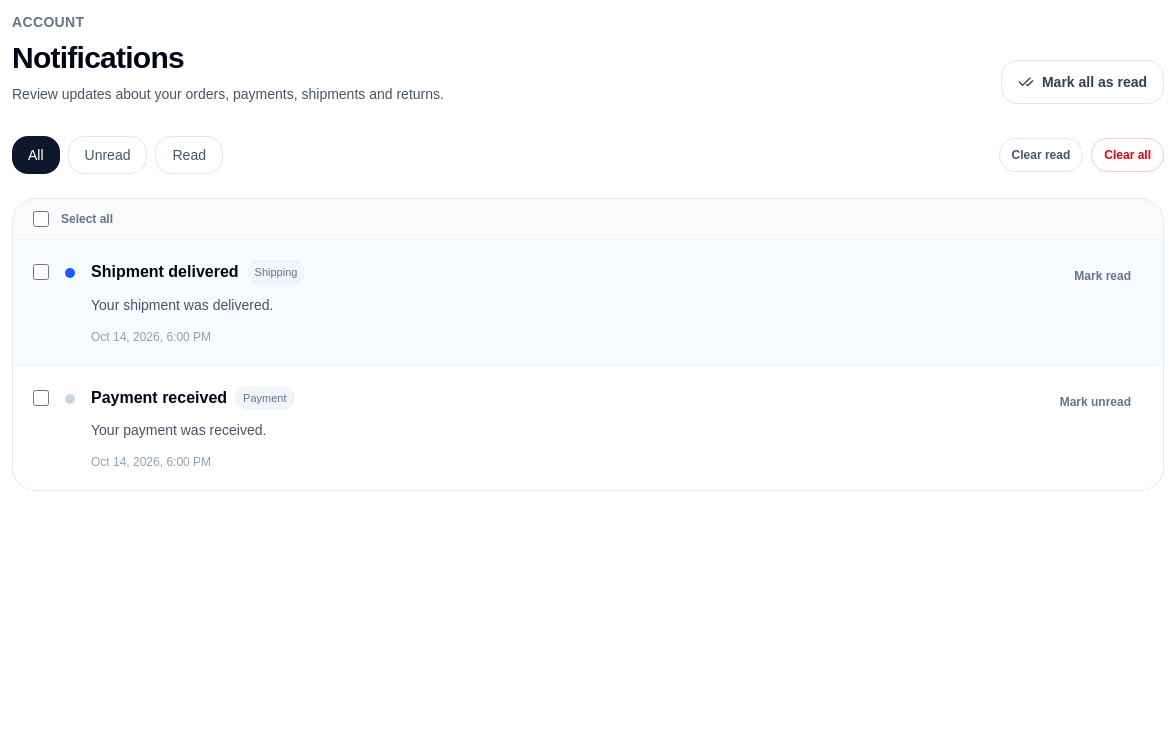
NotificationCenter › marks all notifications as read
Expected: the heading "Shipment delivered" is shown, [91,260,239,284]
Click the button "Mark all as read": (1082, 82) [1001,60,1164,104]
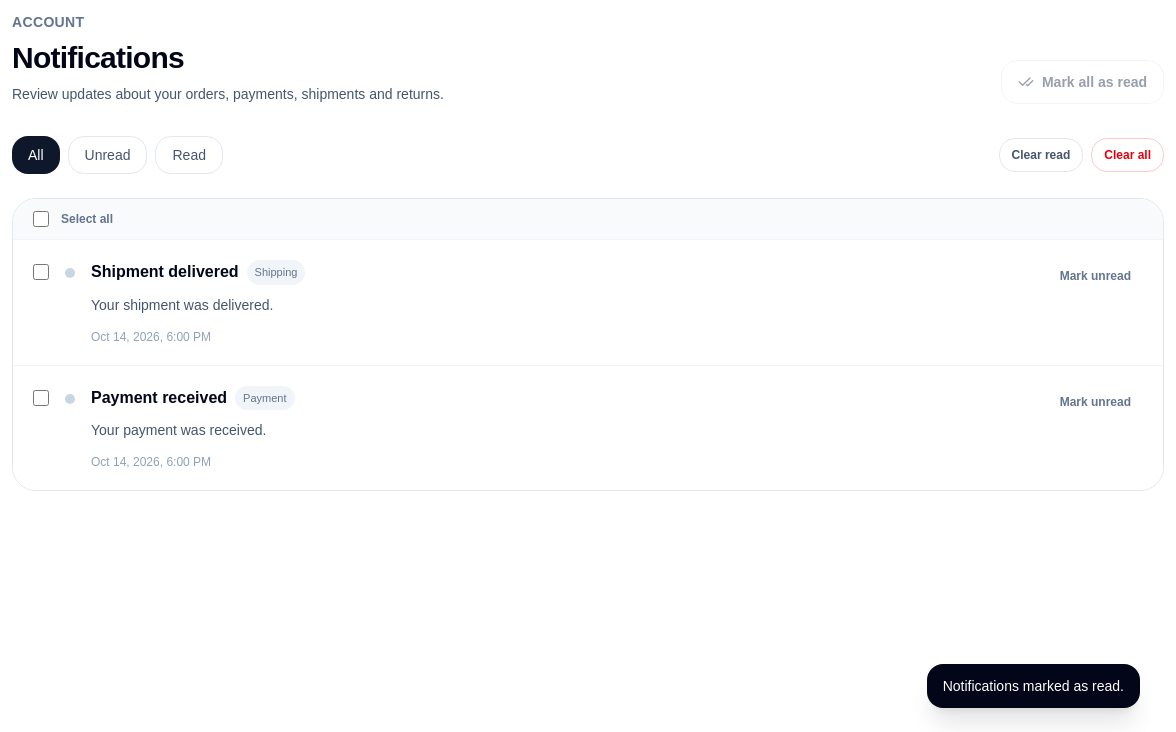
Now the message reads "Notifications marked as read.", box [943,678,1124,694]
